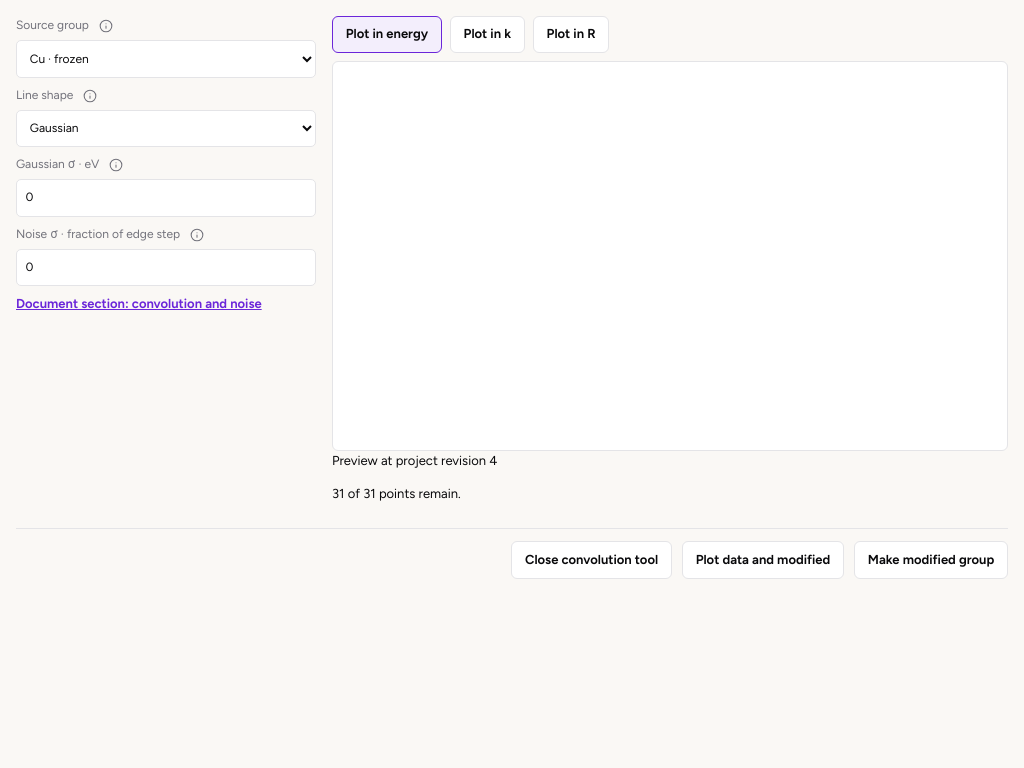
rejects invalid widths  without starting a new request
Expected: the button "Make modified group" is enabled, [854, 541, 1008, 579]
Clear the number field labelled "Gaussian σ · eV" at (166, 198), box [16, 179, 316, 217]
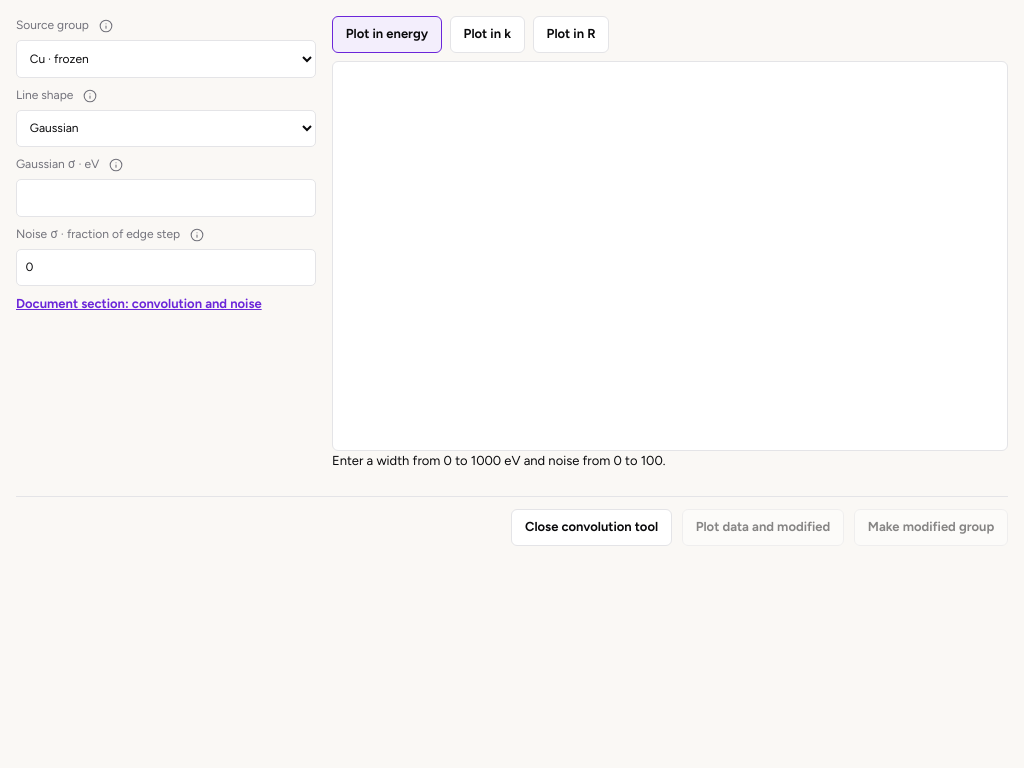
Expected: the button "Make modified group" is disabled, [854, 509, 1008, 546]
Expected: the text "Enter a width from 0 to 1000 eV and noise from 0 to 100." is shown, [332, 453, 666, 468]
